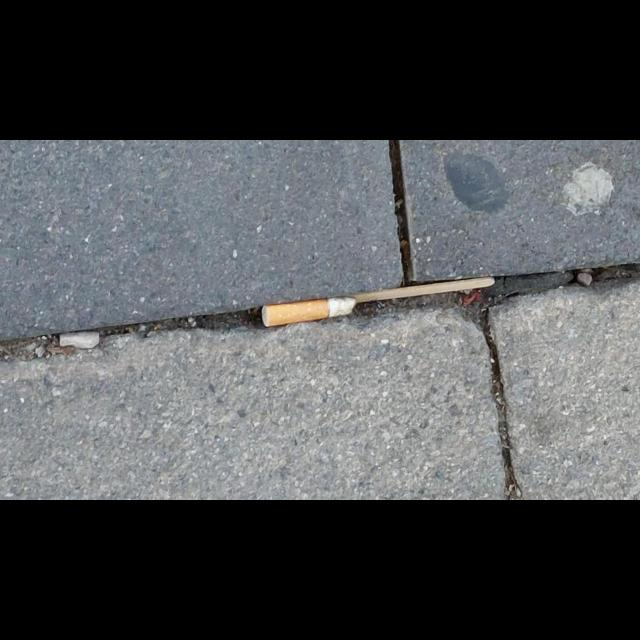cigarette: (261, 296, 357, 327)
